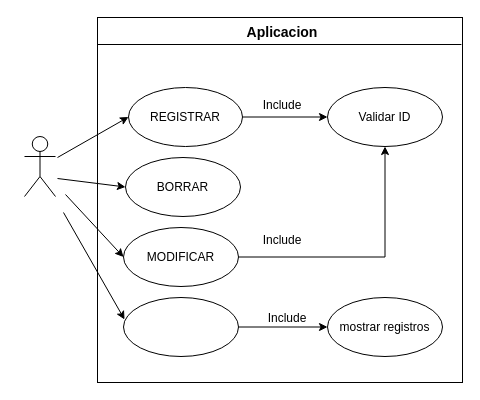
Some shapes in this 480 by 400 pixel diagram are drawn without their labels. The shapes that lost their labels are listed below. From the top down, each one's centre as x and y in pixels, then its label:
At (40,166): "Persona".
At (180,326): "MOSTRAR".
